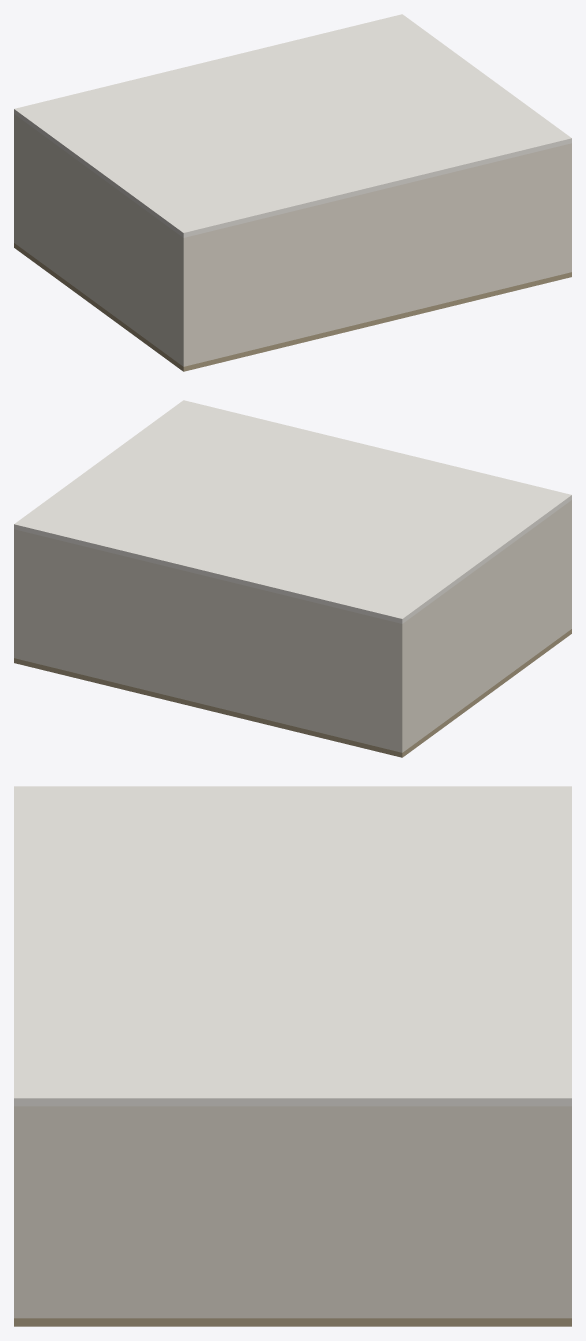
Rendered from ornek-daire.archvr.glb.
The picture shows the model from 3 angles, top to bottom: view 1: azimuth 30°, elevation 25°; view 2: azimuth 150°, elevation 25°; view 3: azimuth 270°, elevation 25°; orthographic projection. The views are drawn at different scales.
Parts seen in each view (by area): view 1: Tavan, GuneyDuvar, BatiDuvar, Zemin; view 2: Tavan, KuzeyDuvar, BatiDuvar, Zemin; view 3: Tavan, DoguDuvar, Zemin, KuzeyDuvar, GuneyDuvar.
Boxes of the visible parts, x1=… form: Tavan: x1=14, y1=14, x2=571, y2=237; GuneyDuvar: x1=180, y1=143, x2=571, y2=366; BatiDuvar: x1=16, y1=116, x2=180, y2=364; Zemin: x1=14, y1=243, x2=571, y2=371; Tavan: x1=14, y1=400, x2=571, y2=623; KuzeyDuvar: x1=14, y1=529, x2=405, y2=752; BatiDuvar: x1=405, y1=502, x2=569, y2=750; Zemin: x1=14, y1=629, x2=571, y2=757; Tavan: x1=14, y1=786, x2=571, y2=1106; DoguDuvar: x1=23, y1=1106, x2=562, y2=1318; Zemin: x1=14, y1=1318, x2=571, y2=1326; KuzeyDuvar: x1=563, y1=1106, x2=571, y2=1318; GuneyDuvar: x1=14, y1=1106, x2=22, y2=1318.
Size of the model in its own units: 8.2 by 2.8 by 6.2.
